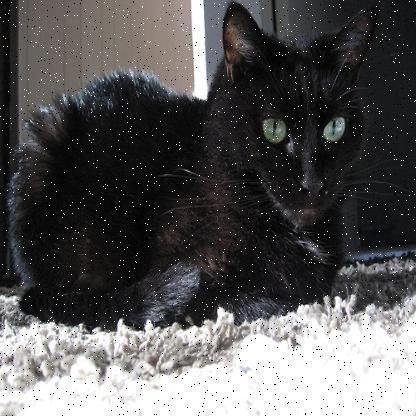cat: (8, 0, 382, 332)
